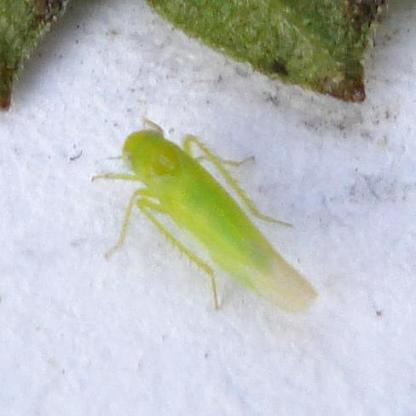green-leafhopper: (106, 124, 312, 314)
